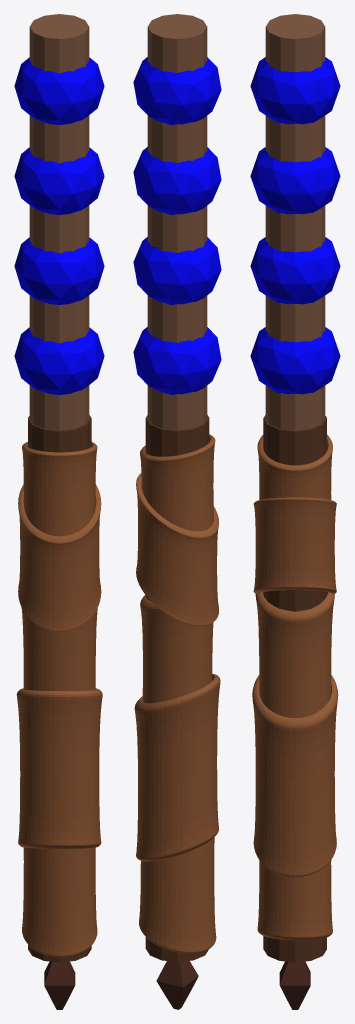
Rendered from Wand 335.glb.
3 renders of one model, left to right at view 1: azimuth 90°, elevation 25°; view 2: azimuth 150°, elevation 25°; view 3: azimuth 270°, elevation 25°, orthographic.
Visible parts, largest first — view 1: GeneratedWand; view 2: GeneratedWand; view 3: GeneratedWand.
Part boxes in pixels (<box>): GeneratedWand: <box>14,14,104,1009</box>; GeneratedWand: <box>133,14,221,1009</box>; GeneratedWand: <box>250,14,340,1009</box>.
Size of the model in its own units: 0.0408 by 0.5149 by 0.0428.
